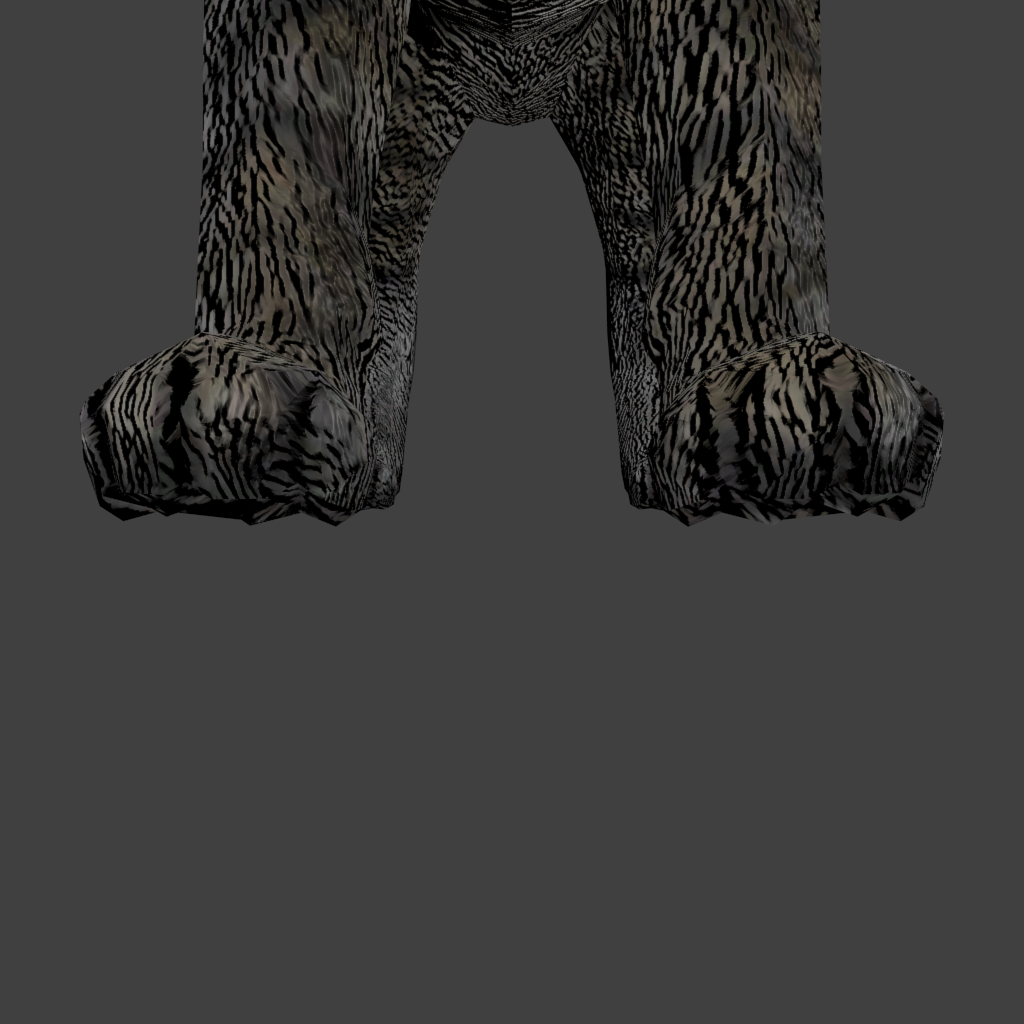Cat: (0, 0, 1024, 527)
